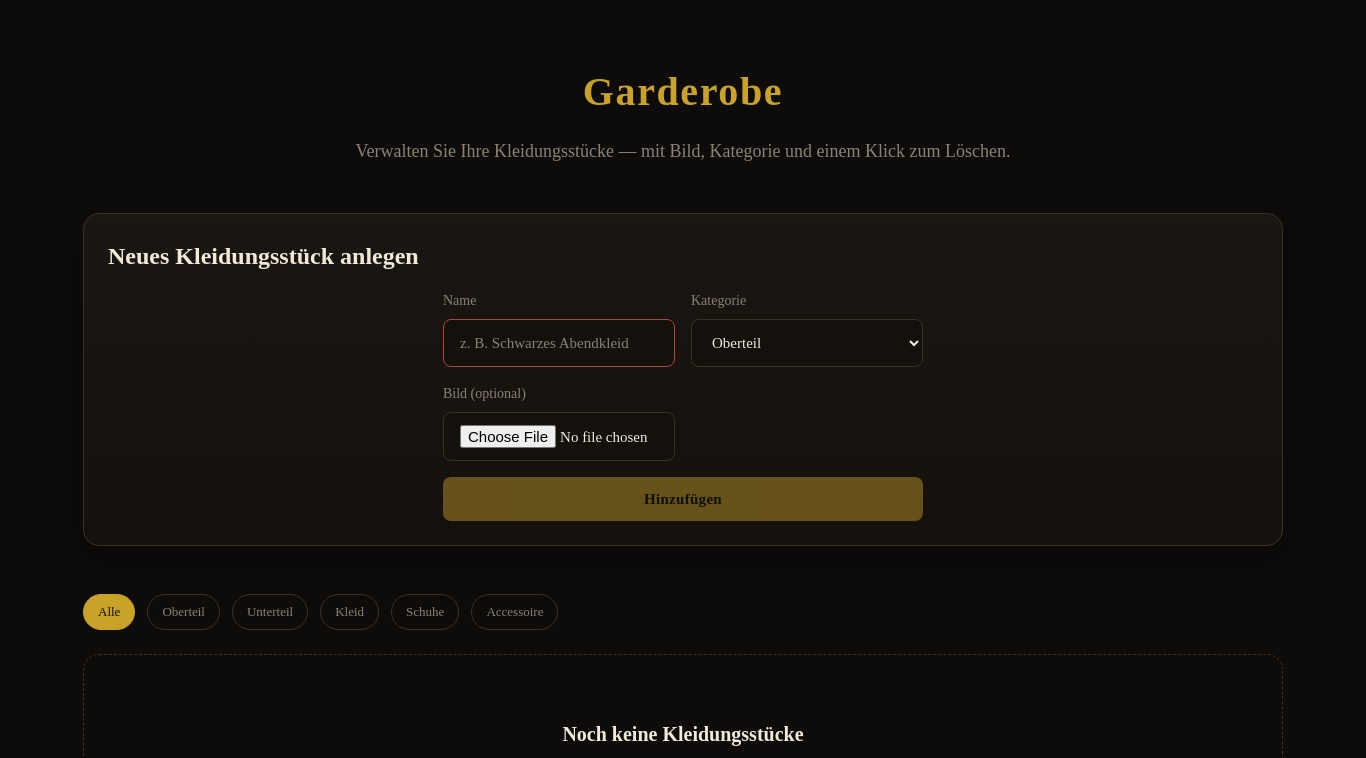
Test case: Wardrobe › legt ein neues Kleidungsstück an und zeigt es sofort an
Expected: the heading "Noch keine Kleidungsstücke" is shown, [562, 723, 804, 745]
Type "Neues Hemd" into the field labelled "Name".
click(559, 343); type("Neues Hemd")  # box [443, 319, 675, 367]
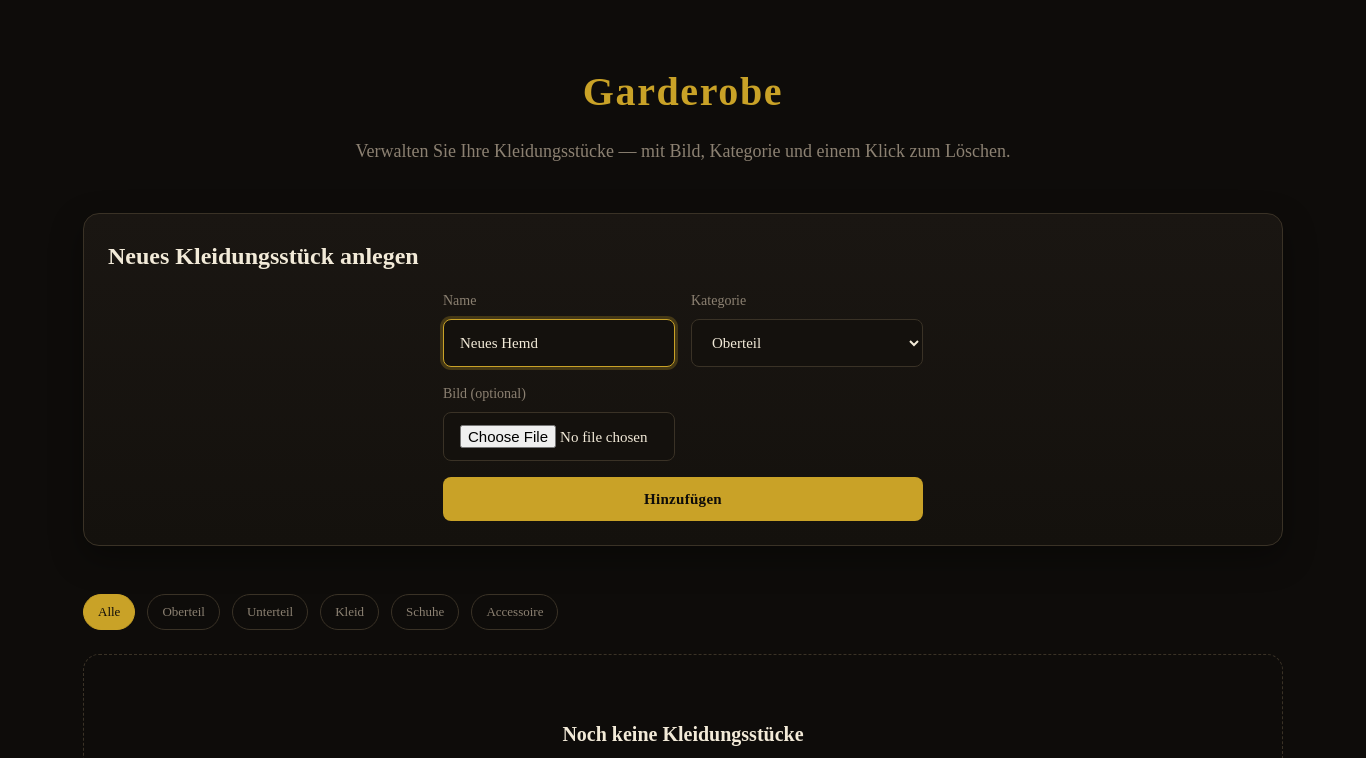
Select "Oberteil" in the dropdown labelled "Kategorie" at (807, 343), box [691, 319, 923, 367]
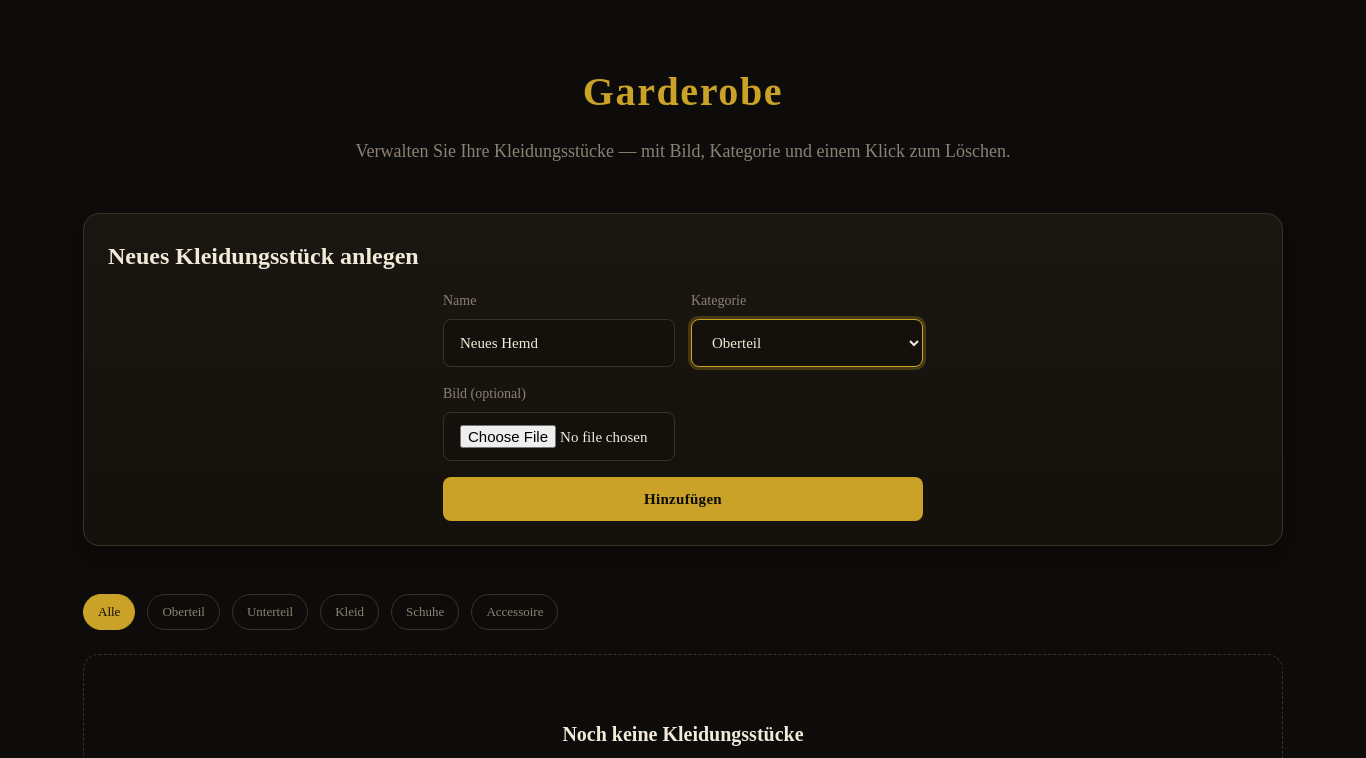
Click the button "Hinzufügen".
click(683, 499)  # box [443, 477, 923, 521]
(page scrolled)
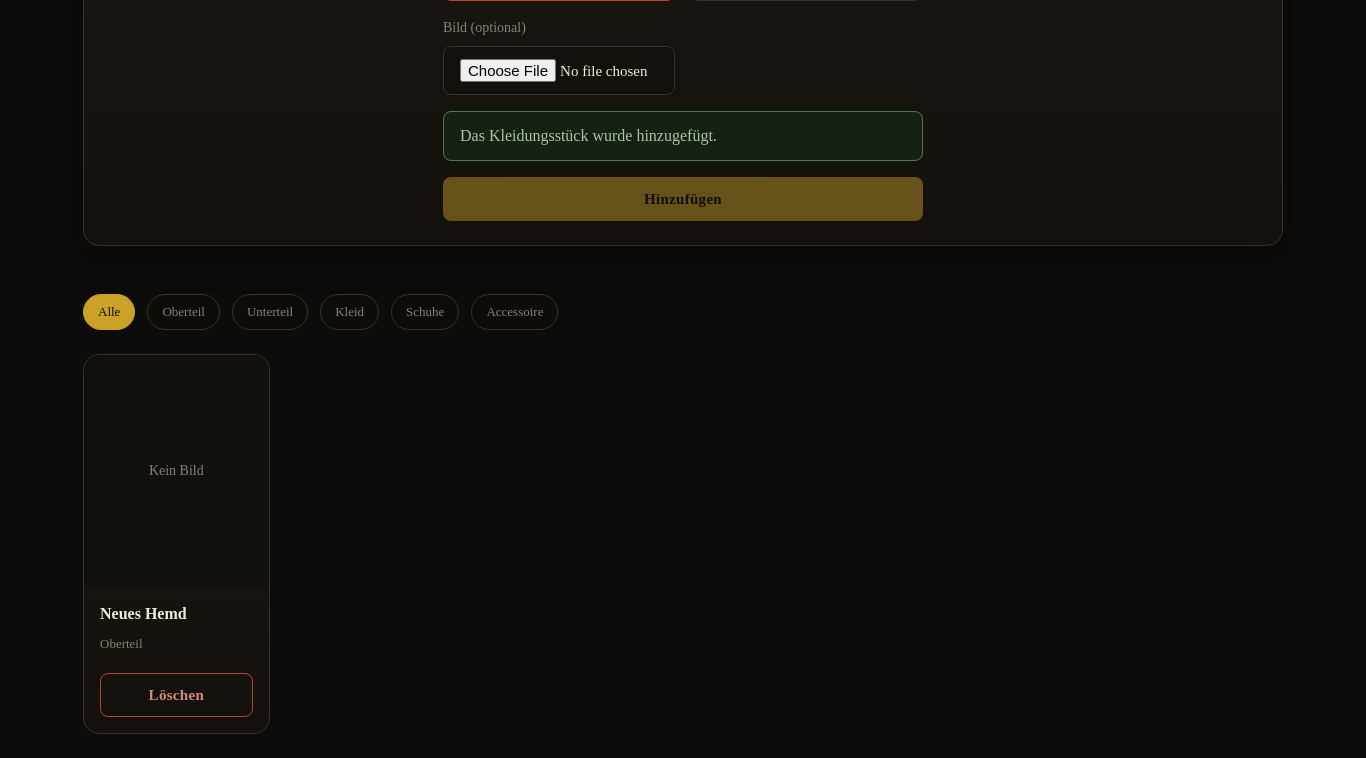
Expected: the heading "Neues Hemd" is shown, [100, 605, 187, 622]
